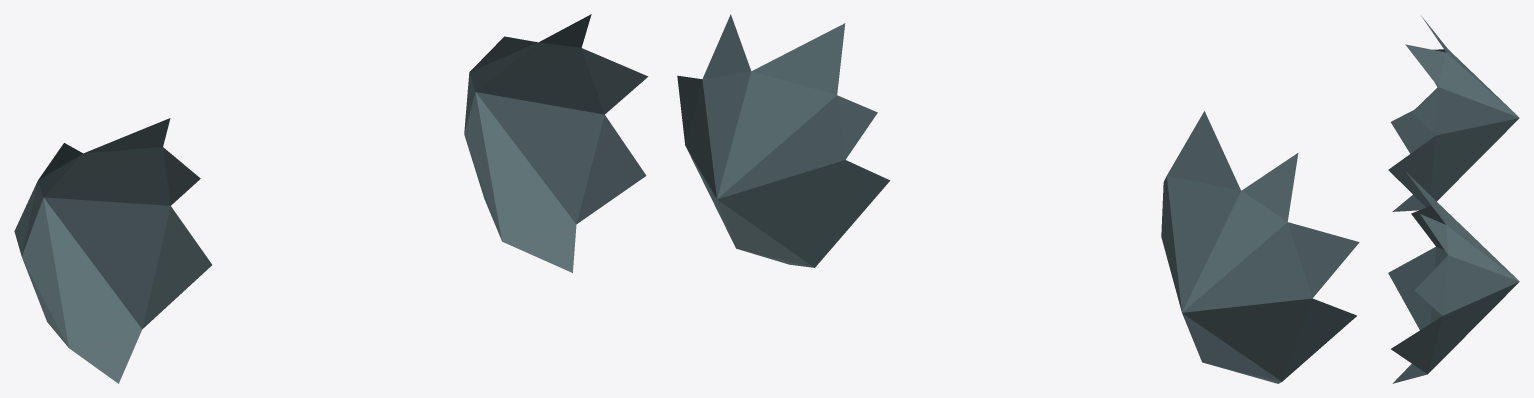
The model's file is BR_Empoleon-Shiny01.obj.
The picture shows the model from 3 angles, left to right: view 1: azimuth 30°, elevation 25°; view 2: azimuth 150°, elevation 25°; view 3: azimuth 270°, elevation 25°; orthographic projection. The views are drawn at different scales.
Parts seen in each view (by area): view 1: emperte; view 2: emperte; view 3: emperte.
Part boxes in pixels (<box>): emperte: <box>14,14,648,383</box>; emperte: <box>677,14,1359,383</box>; emperte: <box>1388,16,1519,383</box>.
Bounding box in the file's own units: 5.89 × 2.18 × 1.37.
Materials: 1 (1 with a texture image).
